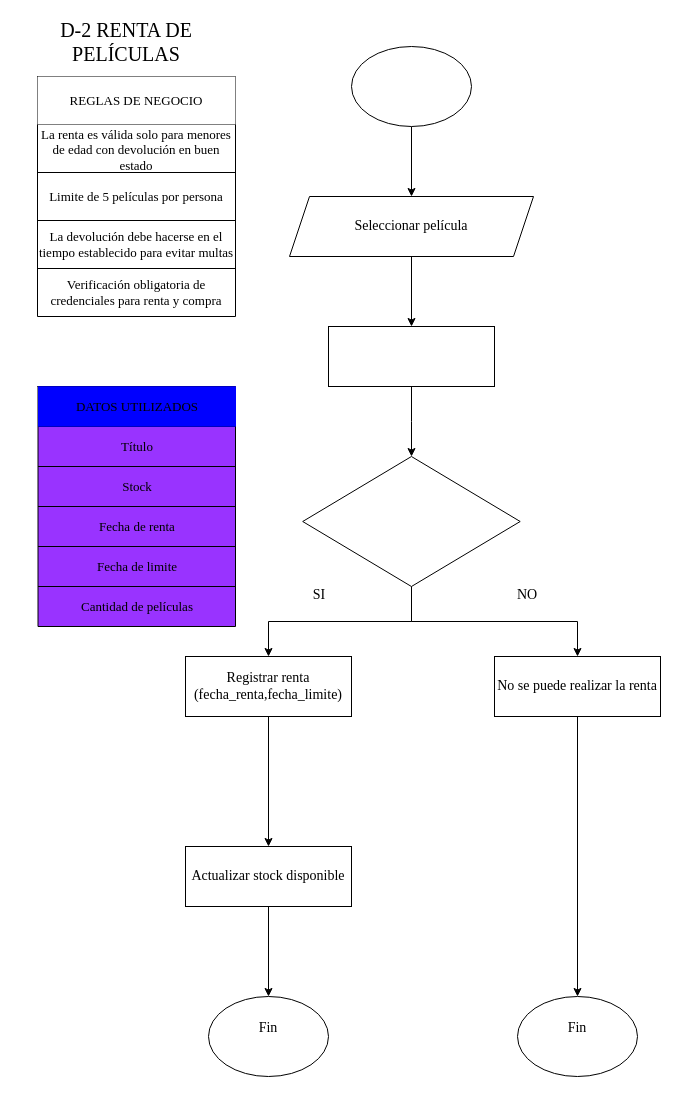
Image size: 678x1094. Some labels were removed from this diagram. The shapes that lost their labels are listed below. From the top down, each one's centre as x and y in pixels, then its label:
At point 411,86: "Inicio".
At point 411,356: "Verificar stock disponible y límite de 5 películas".
At point 411,521: "¿Stock disponible y limite permitido?".
